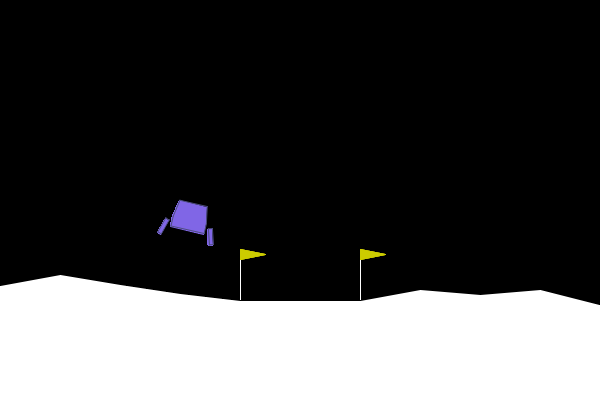lander: (155, 195, 223, 247)
